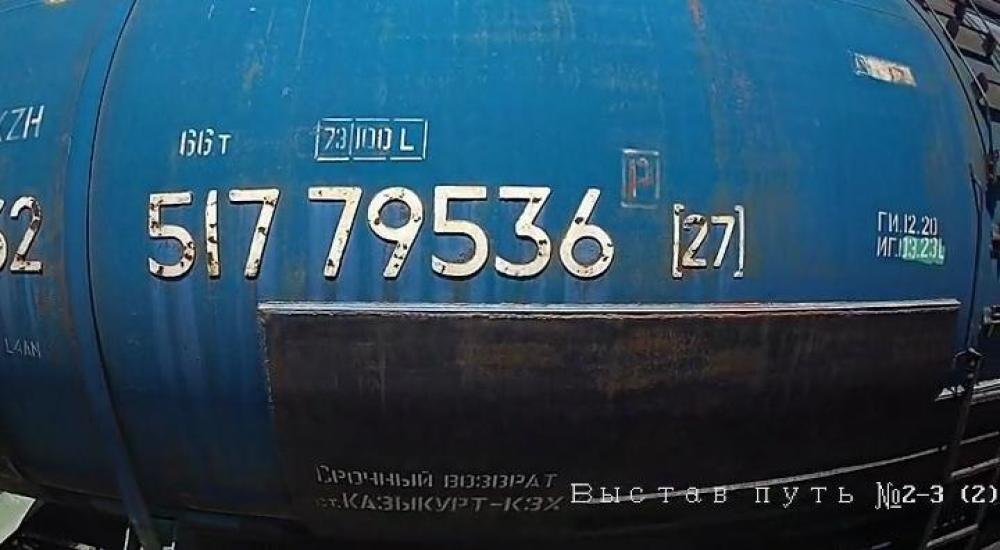Wagon-number: (137, 178, 622, 284)
